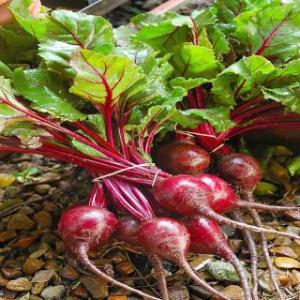beet: (60, 208, 116, 248), (153, 174, 209, 212), (139, 220, 192, 256), (220, 156, 268, 186), (168, 144, 210, 174), (194, 220, 228, 254), (207, 175, 237, 213)
